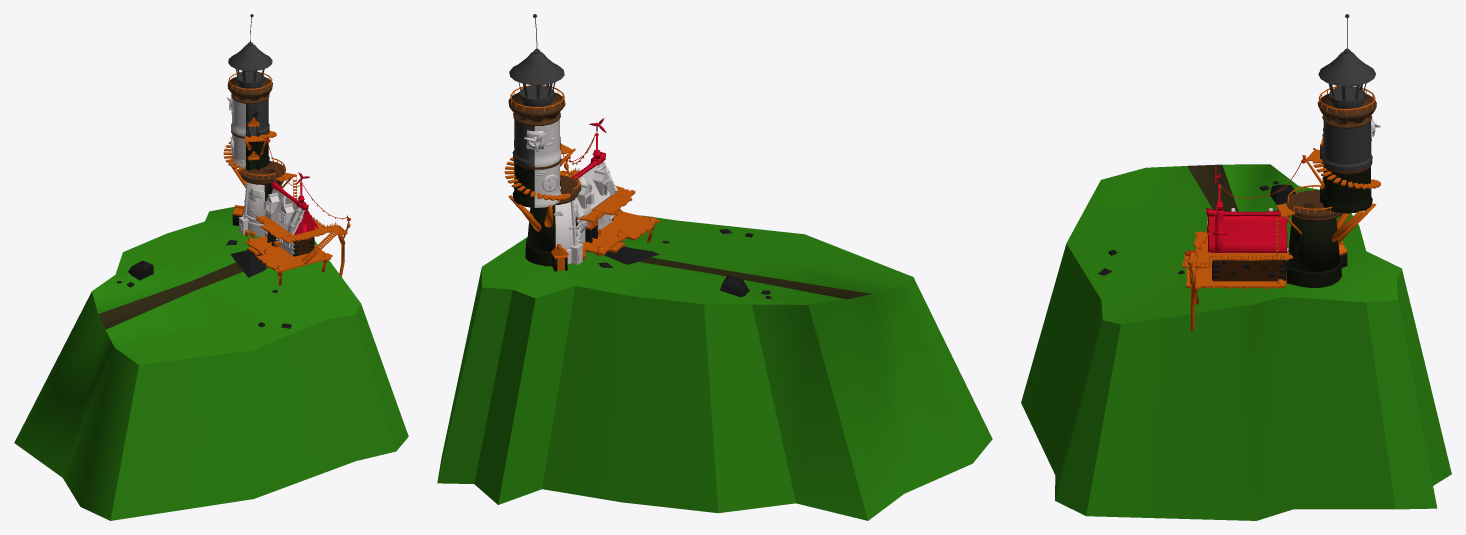
Rendered from FaroFINAL.fbx.
The picture shows the model from 3 angles, left to right: view 1: azimuth 30°, elevation 25°; view 2: azimuth 150°, elevation 25°; view 3: azimuth 270°, elevation 25°; orthographic projection. The views are drawn at different scales.
Parts seen in each view (by area): view 1: Césped, Césped.001, Techo, SueloMadera, Rocas, Base.009, BaseFaro.001, Tuberia.004, Base.007, Balconazo, Cube.010, Base.004 (+1 smaller); view 2: Césped, Techo, Césped.001, SueloMadera, BaseFaro.002, Rocas, Base.009, Base.008, BaseFaro.001, Balconazo, Cube.010, Base.007 (+2 smaller); view 3: Césped, BaseFaro.002, Cube.002, Techo, Base.007, Base.004, Paredes, Césped.001, Base.009, Tuberia.004, SueloMadera, Balconazo.001 (+1 smaller).
Part boxes in pixels (bbox=[...]): Césped: bbox=[14, 205, 408, 520]; Césped.001: bbox=[98, 262, 243, 329]; Techo: bbox=[228, 14, 272, 88]; SueloMadera: bbox=[245, 236, 332, 272]; Rocas: bbox=[117, 240, 291, 328]; Base.009: bbox=[227, 77, 272, 103]; BaseFaro.001: bbox=[242, 182, 265, 236]; Tuberia.004: bbox=[238, 161, 285, 184]; Base.007: bbox=[245, 98, 269, 136]; Balconazo: bbox=[255, 215, 319, 242]; Cube.010: bbox=[262, 188, 304, 234]; Base.004: bbox=[245, 138, 269, 169]; Césped: bbox=[437, 215, 992, 520]; Techo: bbox=[509, 14, 564, 107]; Césped.001: bbox=[638, 257, 871, 299]; SueloMadera: bbox=[582, 210, 660, 255]; BaseFaro.002: bbox=[525, 205, 555, 266]; Rocas: bbox=[598, 229, 772, 298]; Base.009: bbox=[508, 92, 565, 125]; Base.008: bbox=[534, 119, 561, 166]; BaseFaro.001: bbox=[555, 200, 578, 264]; Balconazo: bbox=[579, 185, 635, 222]; Cube.010: bbox=[574, 160, 617, 218]; Base.007: bbox=[512, 119, 534, 166]; Césped: bbox=[1021, 164, 1451, 520]; BaseFaro.002: bbox=[1286, 215, 1341, 287]; Cube.002: bbox=[1208, 216, 1286, 252]; Techo: bbox=[1318, 14, 1375, 109]; Base.007: bbox=[1322, 121, 1372, 170]; Base.004: bbox=[1322, 167, 1372, 213]; Paredes: bbox=[1213, 260, 1285, 281]; Césped.001: bbox=[1187, 164, 1238, 211]; Base.009: bbox=[1317, 94, 1376, 128]; Tuberia.004: bbox=[1285, 190, 1342, 221]; SueloMadera: bbox=[1184, 251, 1286, 289]; Balconazo.001: bbox=[1182, 252, 1293, 268].
Bounding box in the file's own units: 11855 × 13011 × 10786.
